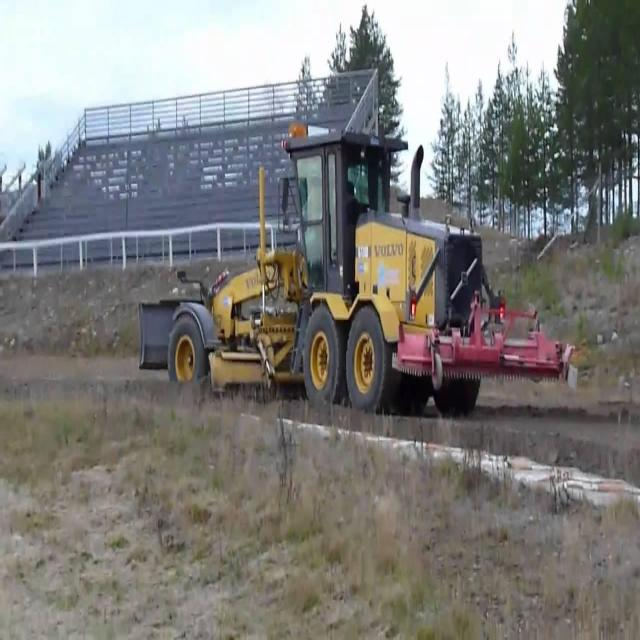Grader: (132, 114, 508, 428)
